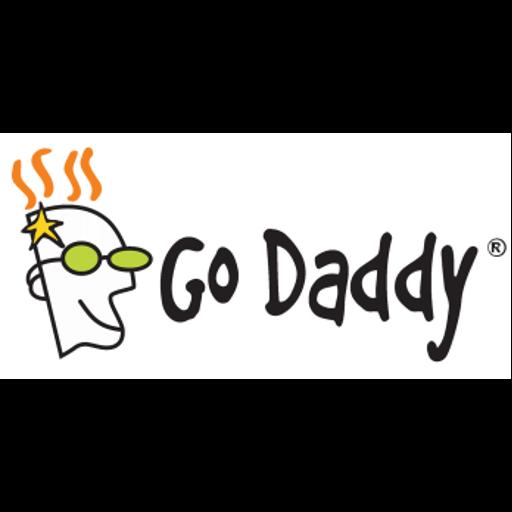GoDaddy: (0, 133, 511, 379)
